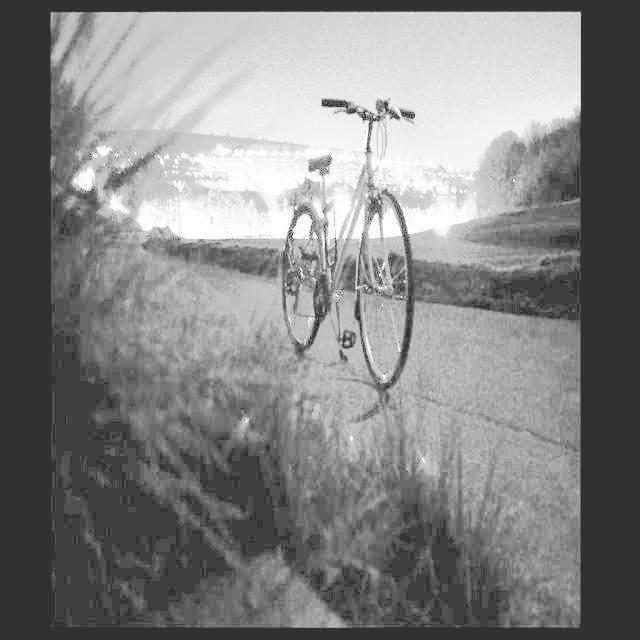Bicycle: (274, 95, 415, 395)
